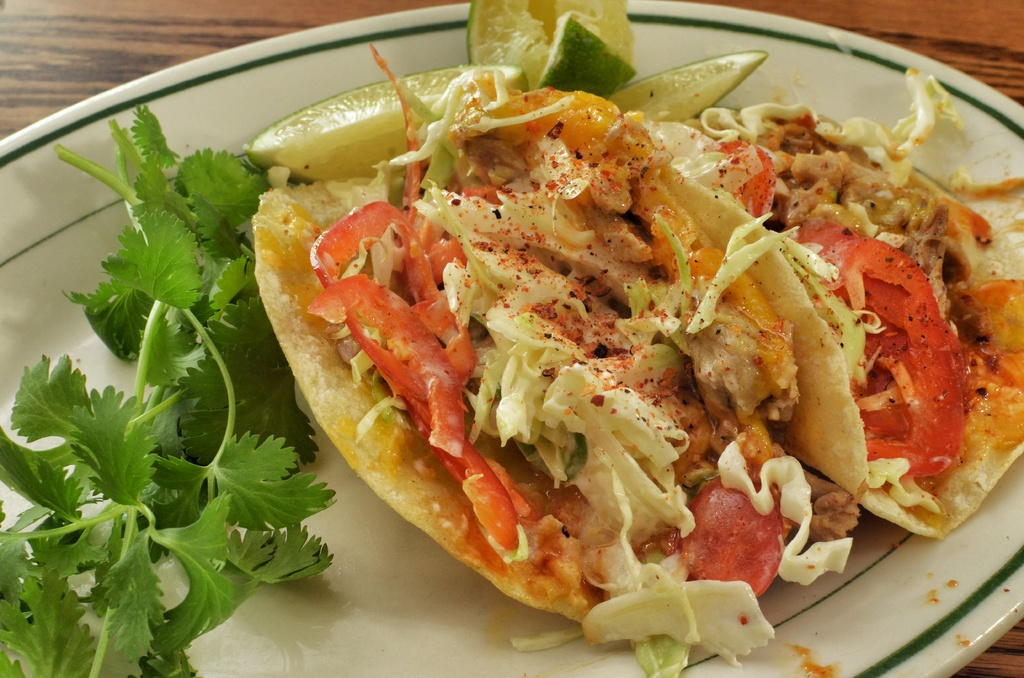taco: (250, 70, 861, 677), (623, 100, 1023, 533)
